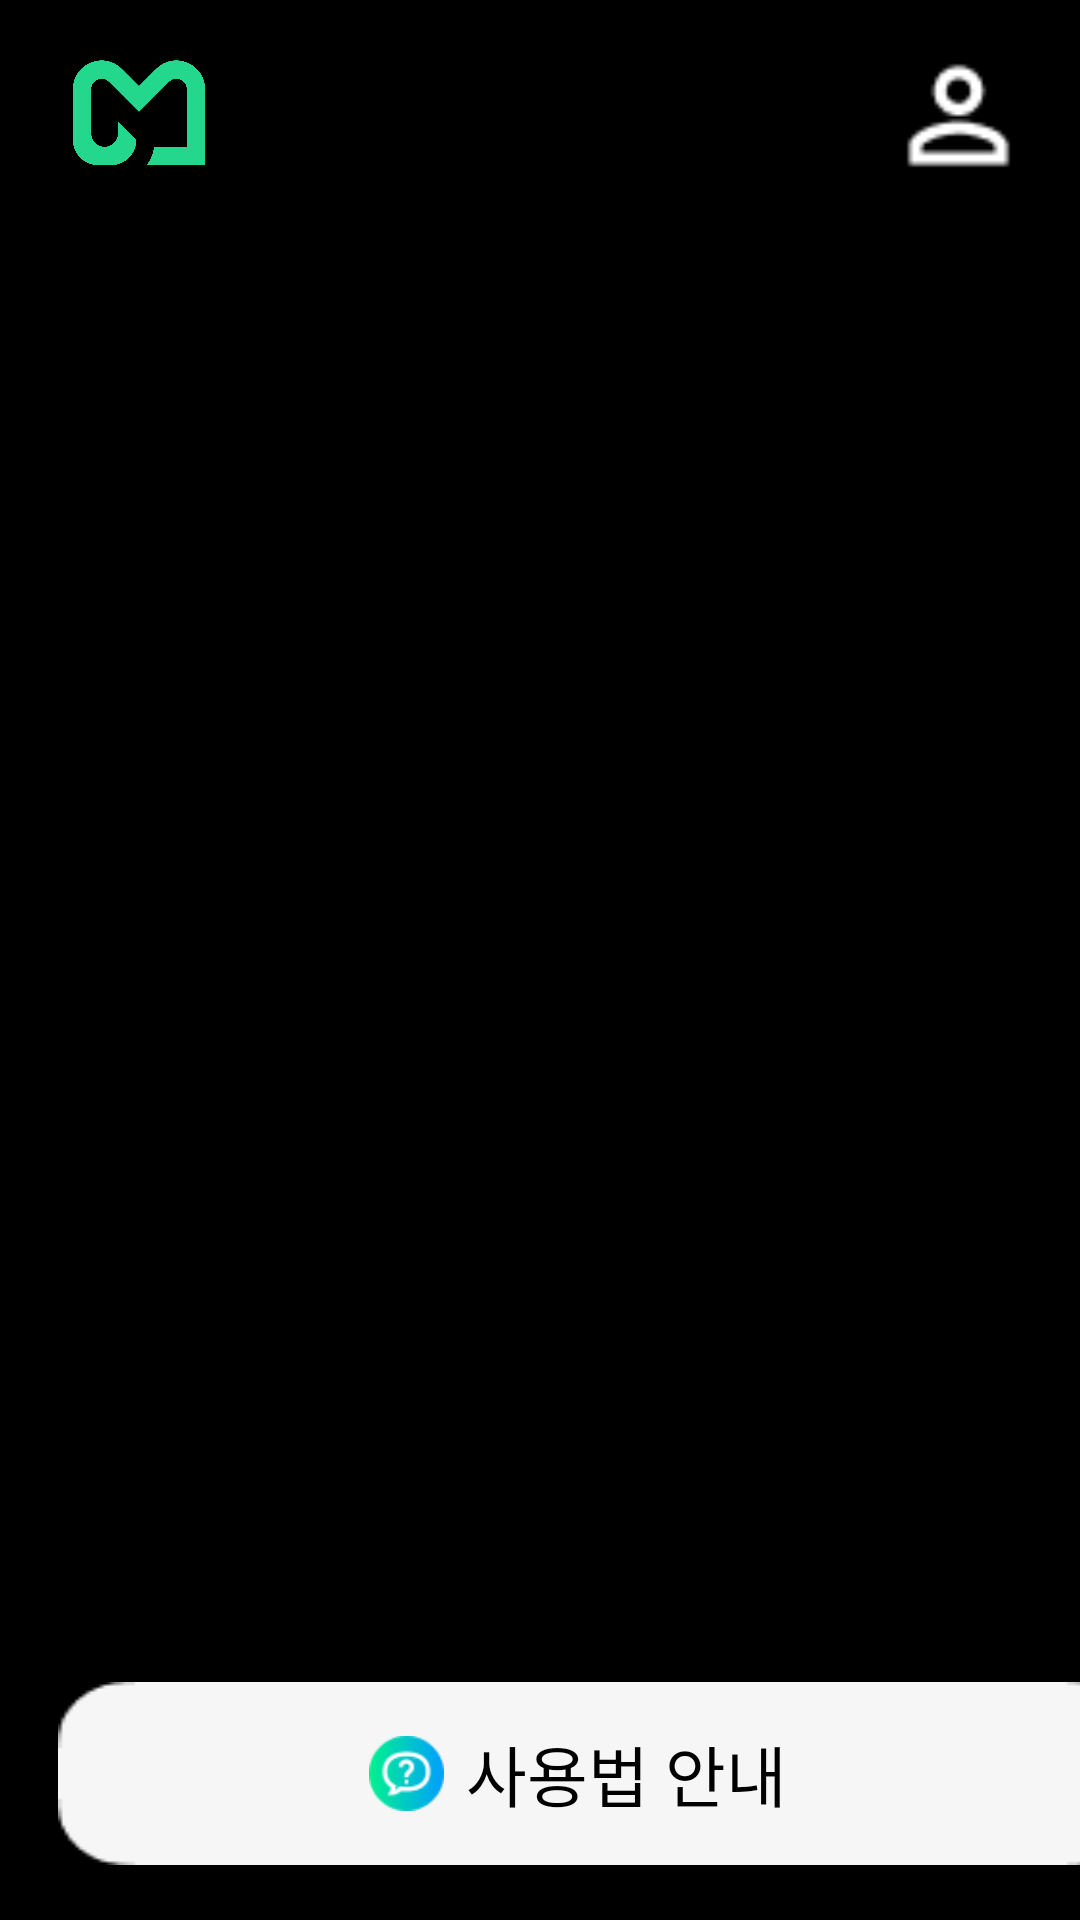

Icon click points for this 1080px×1920px phone screenshot, format (x,y):
user: (958,115)
